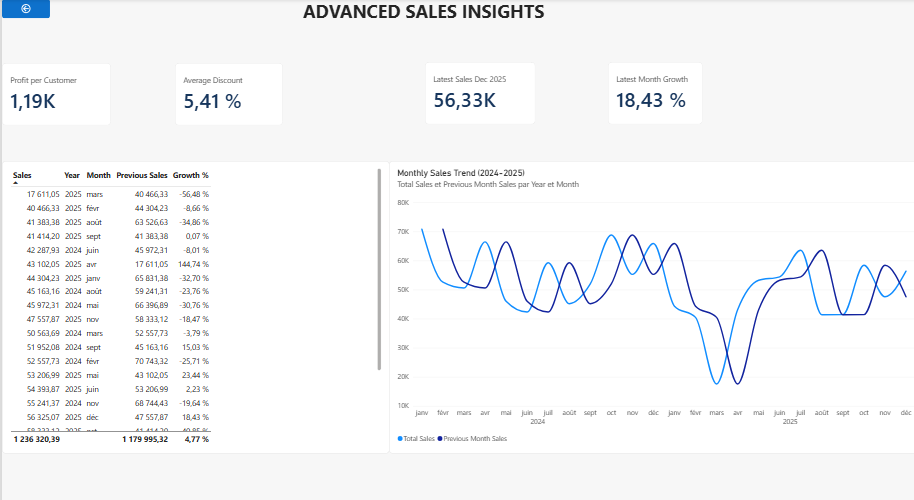

The page's visual inventory and layout, read from the dashboard file:
{"tool":"powerbi","page":{"name":"Advanced Sales Insights","canvas":[1920,1080],"ordinal":3},"visuals":[{"type":"textbox","box":[627.5,0,510,77.5],"z":0},{"type":"cardVisual","fields":{"Data":["Sales.Profit per Customer"]},"box":[0,132.5,227.5,130],"z":1000},{"type":"cardVisual","fields":{"Data":["Sales.Average Discount"]},"box":[360,132.5,225,130],"z":2000},{"type":"tableEx","fields":{"Values":["Sales.Total Sales","Calendar.Year","Calendar.Month","Sales.Previous Month Sales","Sales.Monthly Sales Growth"]},"box":[0,338,808,610],"z":3000},{"type":"actionButton","box":[0,0,100,40],"z":4000},{"type":"lineChart","title":"Monthly Sales Trend (2024-2025)","fields":{"Category":["Calendar.Year","Calendar.Month"],"Y":["Sales.Total Sales","Sales.Previous Month Sales"]},"box":[807.5,337.5,1112.5,610],"z":5000},{"type":"cardVisual","fields":{"Data":["Sales.Latest Month Sales"]},"box":[882,132,230,130],"z":6000},{"type":"cardVisual","fields":{"Data":["Sales.Latest Month Growth"]},"box":[1264,132,197.5,130],"z":7000}]}

Visuals, with their boxes in screenshot pixels (x1, y1, x2, y2), scaled from the page's 1920x1080 canvas onto the 914x500 screenshot:
textbox: bbox=(299, 0, 541, 36)
cardVisual - Sales.Profit per Customer: bbox=(0, 61, 108, 122)
cardVisual - Sales.Average Discount: bbox=(171, 61, 278, 122)
tableEx - Sales.Total Sales x Calendar.Year: bbox=(0, 156, 385, 439)
actionButton: bbox=(0, 0, 48, 19)
"Monthly Sales Trend (2024-2025)" lineChart: bbox=(384, 156, 913, 439)
cardVisual - Sales.Latest Month Sales: bbox=(420, 61, 529, 121)
cardVisual - Sales.Latest Month Growth: bbox=(602, 61, 696, 121)
